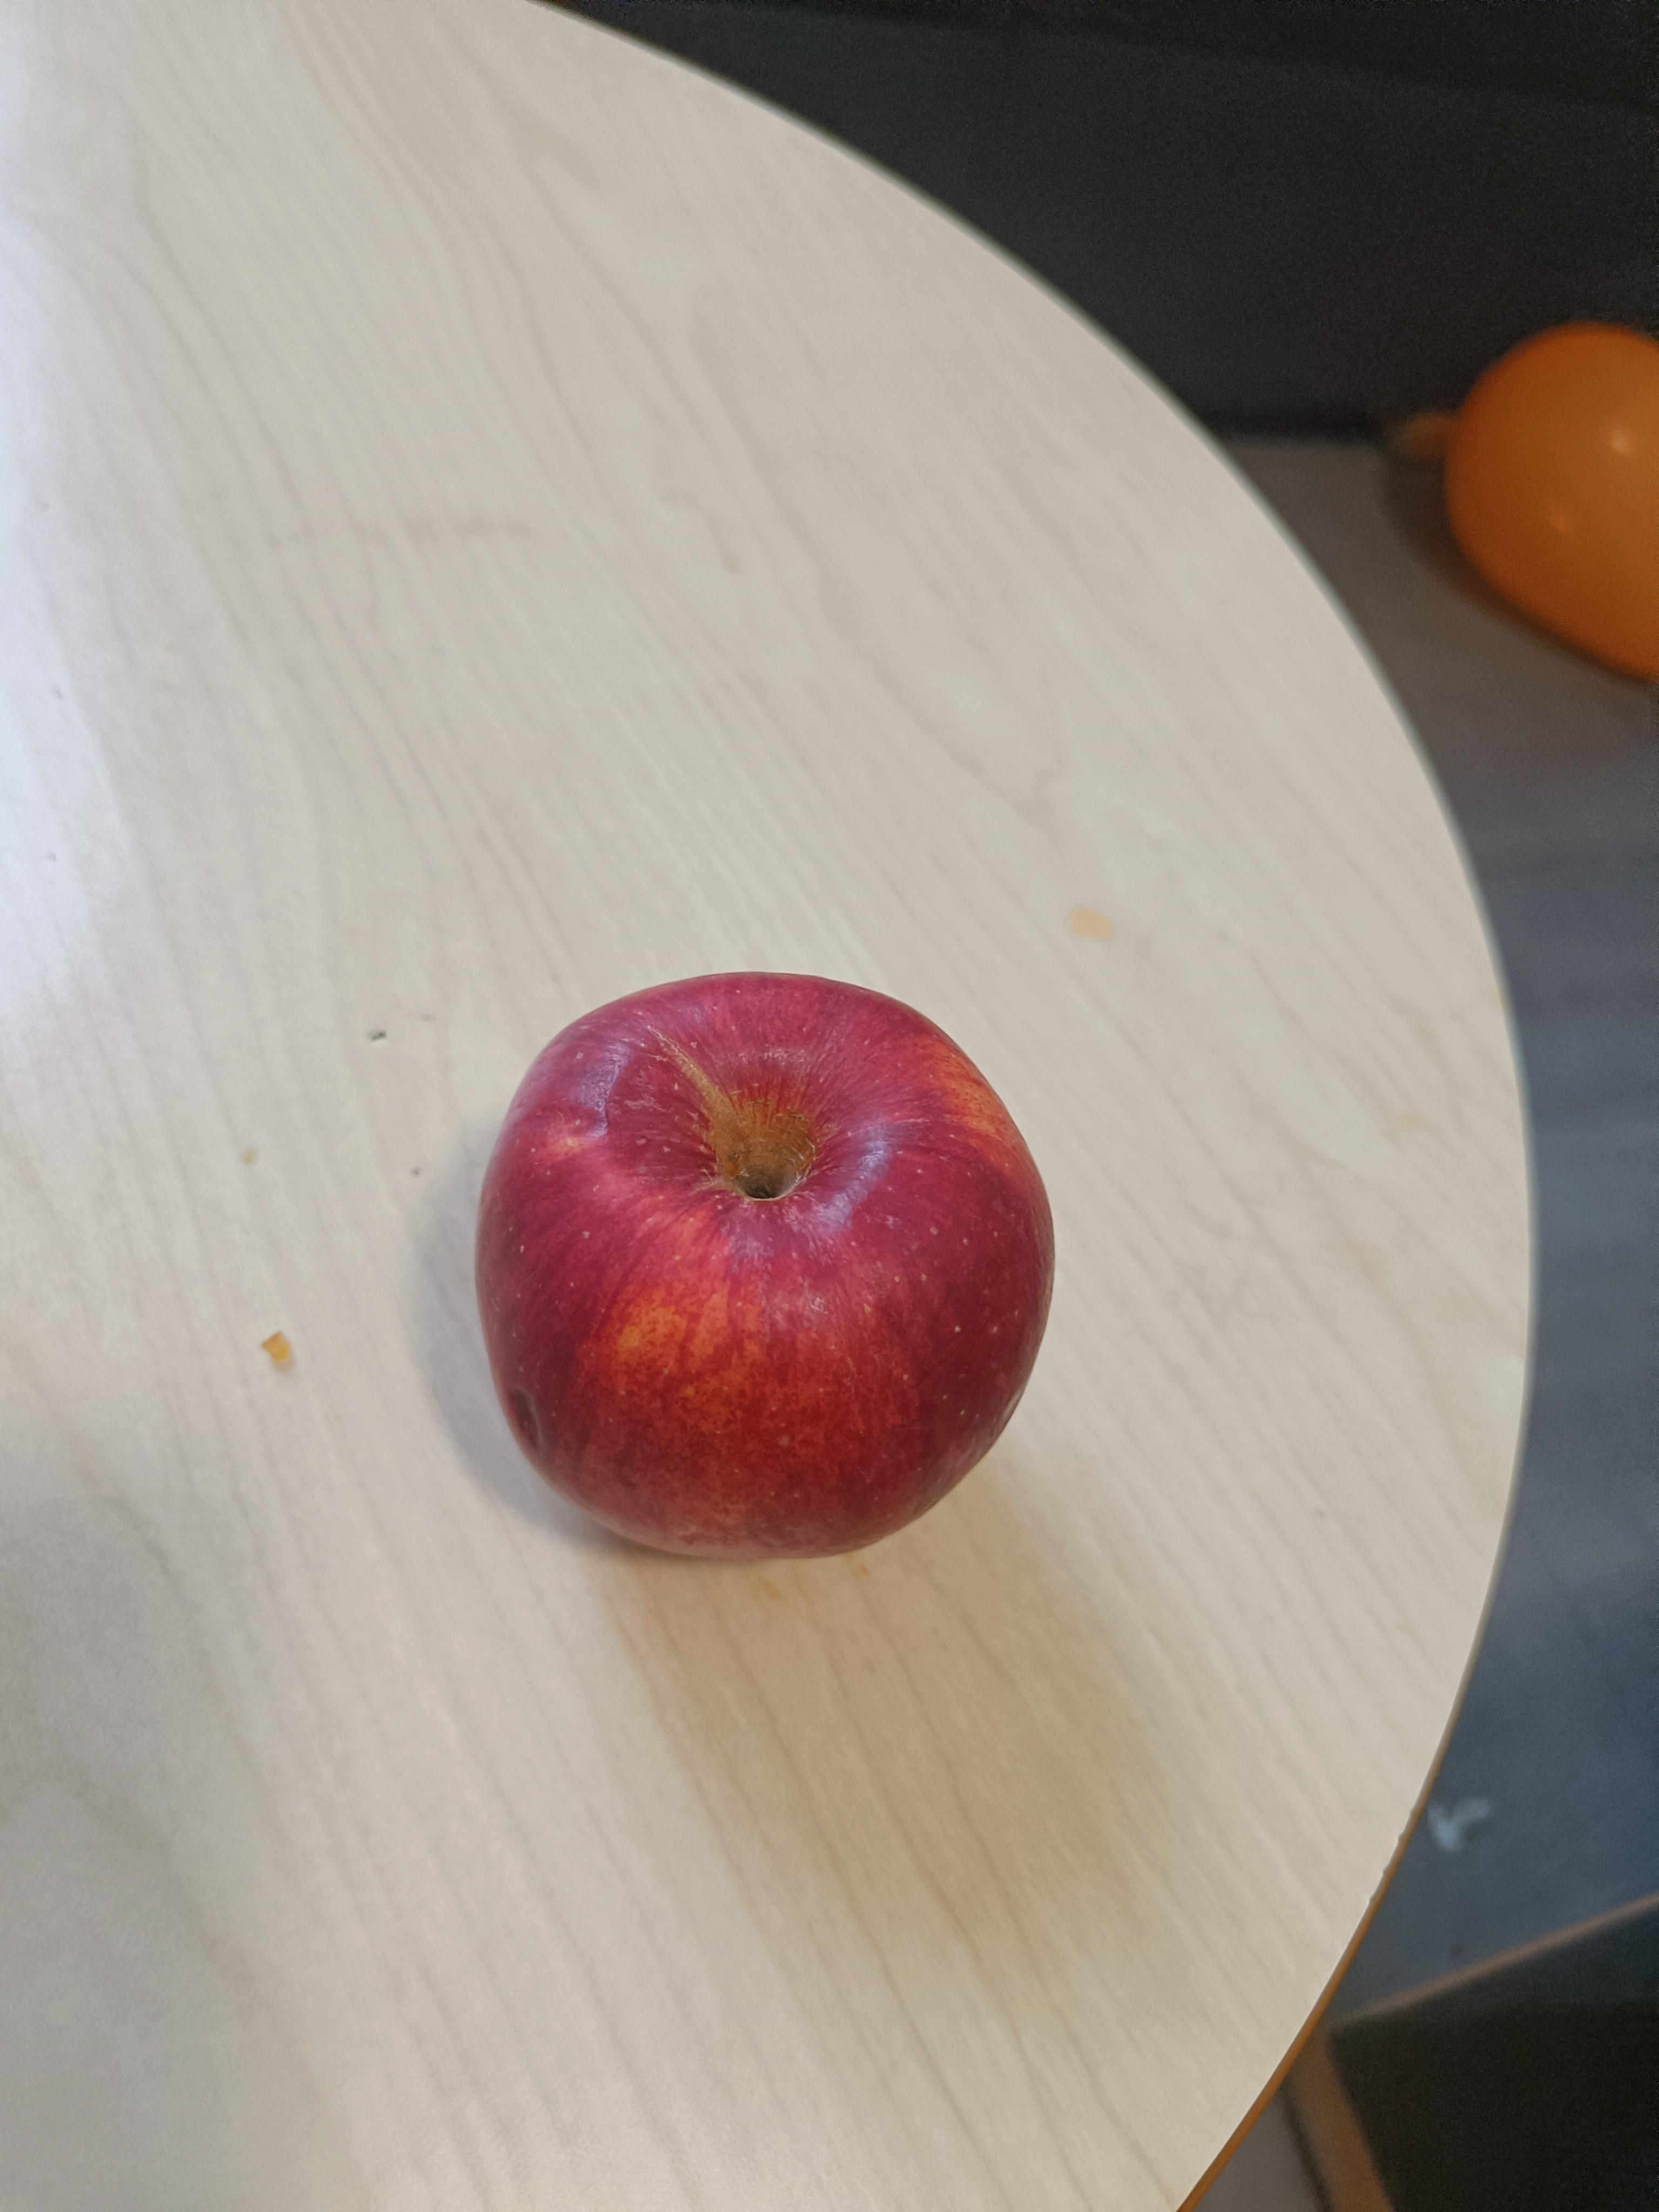Apple: (483, 982, 1145, 1512)
